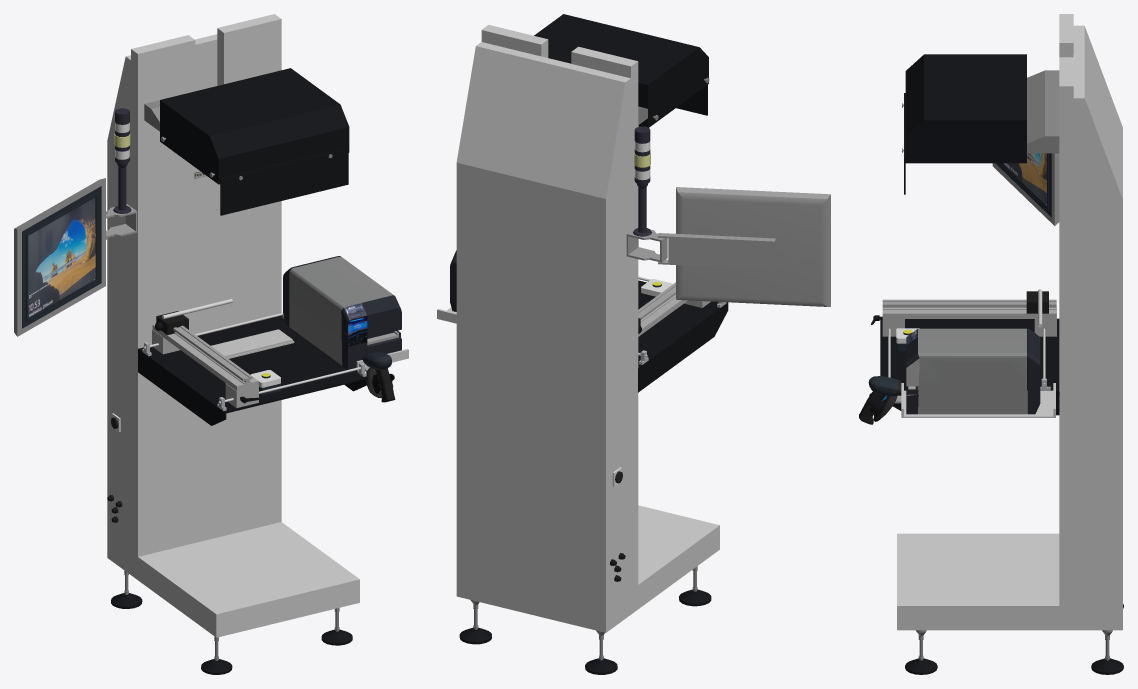
Rendered from Scan_500.fbx.
3 views of the same model, side by side, from view 1: azimuth 30°, elevation 25°; view 2: azimuth 150°, elevation 25°; view 3: azimuth 270°, elevation 25° (orthographic). The views are drawn at different scales.
Parts seen in each view (by area): view 1: polySurface56, polySurface57, polySurface36, polySurface55, polySurface41, polySurface19, hmi, polySurface37, polySurface101, polySurface14, pCylinder18, keyboard (+3 smaller); view 2: polySurface55, polySurface101, polySurface57, polySurface36, polySurface56, polySurface41, pCube12, pCylinder18, pCube22; view 3: polySurface55, polySurface57, polySurface36, polySurface19, polySurface56, polySurface41, pCube28, polySurface49, polySurface101, polySurface48, polySurface15, hmi (+6 smaller).
Part boxes in pixels (x1,y1,x2,y2): polySurface56: [131, 14, 281, 567]; polySurface57: [107, 522, 359, 637]; polySurface36: [160, 68, 349, 184]; polySurface55: [107, 34, 217, 560]; polySurface41: [138, 315, 367, 425]; polySurface19: [289, 256, 393, 365]; hmi: [28, 197, 95, 317]; polySurface37: [220, 148, 348, 215]; polySurface101: [14, 178, 105, 336]; polySurface14: [341, 295, 401, 369]; pCylinder18: [113, 108, 131, 213]; keyboard: [211, 329, 294, 358]; polySurface55: [456, 42, 630, 620]; polySurface101: [676, 187, 830, 306]; polySurface57: [456, 505, 719, 632]; polySurface36: [534, 14, 708, 127]; polySurface56: [481, 25, 638, 589]; polySurface41: [638, 280, 728, 392]; pCube12: [658, 233, 775, 269]; pCylinder18: [633, 126, 651, 236]; pCube22: [626, 226, 655, 260]; polySurface55: [1073, 25, 1122, 617]; polySurface57: [897, 533, 1122, 630]; polySurface36: [905, 54, 1026, 163]; polySurface19: [918, 328, 1026, 414]; polySurface56: [1059, 14, 1073, 617]; polySurface41: [880, 318, 1059, 415]; pCube28: [902, 70, 1059, 153]; polySurface49: [882, 299, 1056, 309]; polySurface101: [992, 153, 1059, 225]; polySurface48: [882, 310, 1056, 318]; polySurface15: [901, 383, 1055, 417]; hmi: [1003, 153, 1046, 204].
Bounding box in the file's own units: 17.01 × 26.59 × 10.86.
